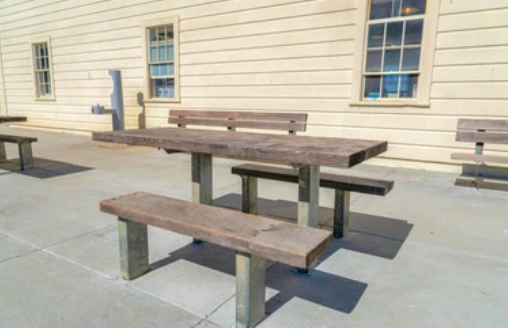obstacle: (82, 125, 394, 316)
